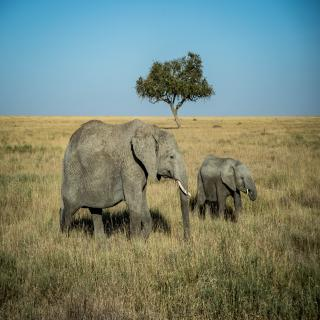Elephant: (59, 112, 194, 246), (194, 149, 261, 223)
